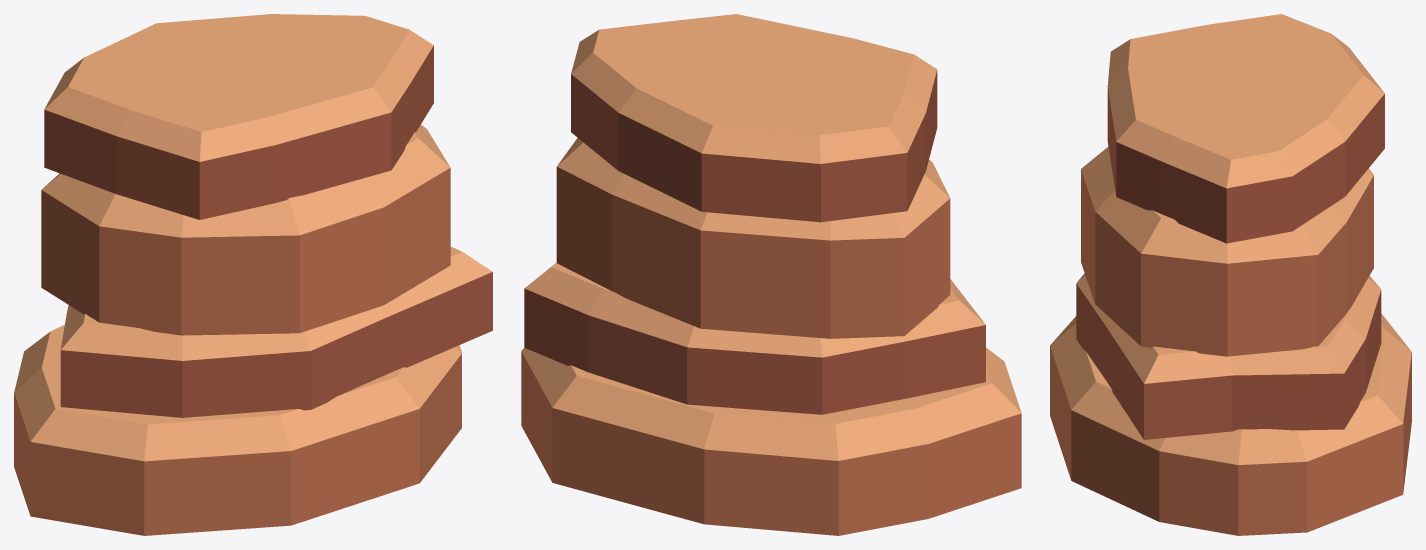
Rendered from mesa_b.glb.
The picture shows the model from 3 angles, left to right: view 1: azimuth 30°, elevation 25°; view 2: azimuth 150°, elevation 25°; view 3: azimuth 270°, elevation 25°; orthographic projection. The views are drawn at different scales.
Parts seen in each view (by area): view 1: mesa_b; view 2: mesa_b; view 3: mesa_b.
Boxes of the visible parts, left/top/right/bottom form: mesa_b: left=14, top=14, right=492, bottom=535; mesa_b: left=521, top=14, right=1021, bottom=535; mesa_b: left=1050, top=14, right=1411, bottom=535.
Size of the model in its own units: 20.79 by 16.71 by 15.42.
